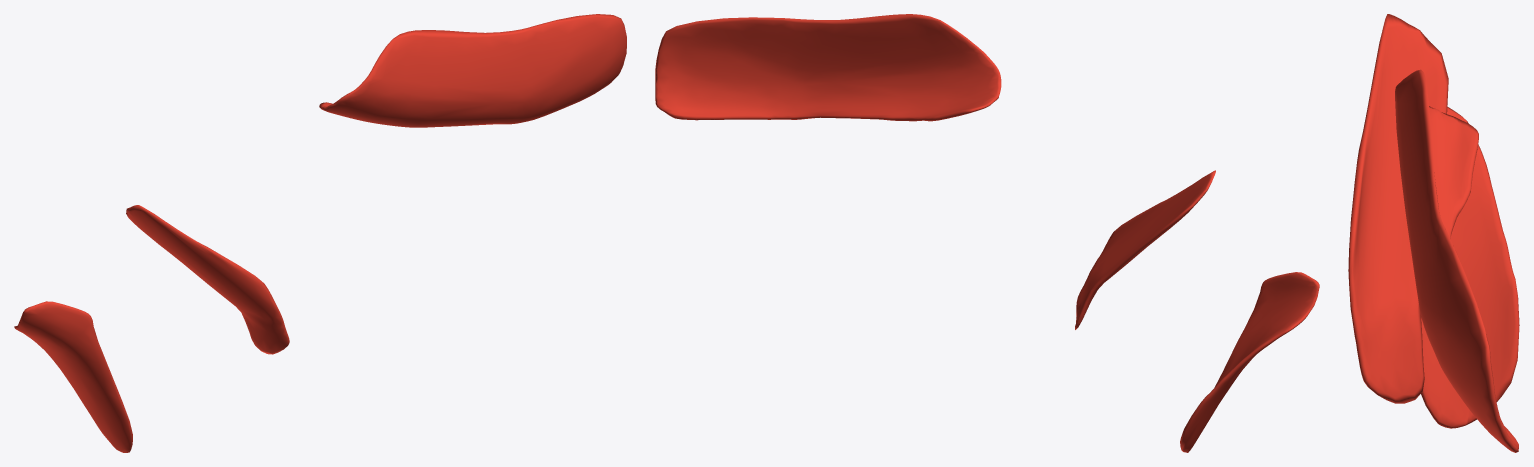
The model's file is Rectus_abdominis_muscle-Thoracic_insertions.l_Generated_Mesh_Fr.glb.
3 renders of one model, left to right at view 1: azimuth 30°, elevation 25°; view 2: azimuth 150°, elevation 25°; view 3: azimuth 270°, elevation 25°, orthographic. The views are drawn at different scales.
Parts seen in each view (by area): view 1: Rectus_abdominis_muscle-Thoracic_insertions.l_Generated_Mesh; view 2: Rectus_abdominis_muscle-Thoracic_insertions.l_Generated_Mesh; view 3: Rectus_abdominis_muscle-Thoracic_insertions.l_Generated_Mesh.
Part boxes in pixels (bbox=[...]): Rectus_abdominis_muscle-Thoracic_insertions.l_Generated_Mesh: bbox=[14, 14, 626, 452]; Rectus_abdominis_muscle-Thoracic_insertions.l_Generated_Mesh: bbox=[655, 14, 1319, 452]; Rectus_abdominis_muscle-Thoracic_insertions.l_Generated_Mesh: bbox=[1348, 14, 1519, 452].
Bounding box in the file's own units: 0.0725 × 0.0394 × 0.011.
